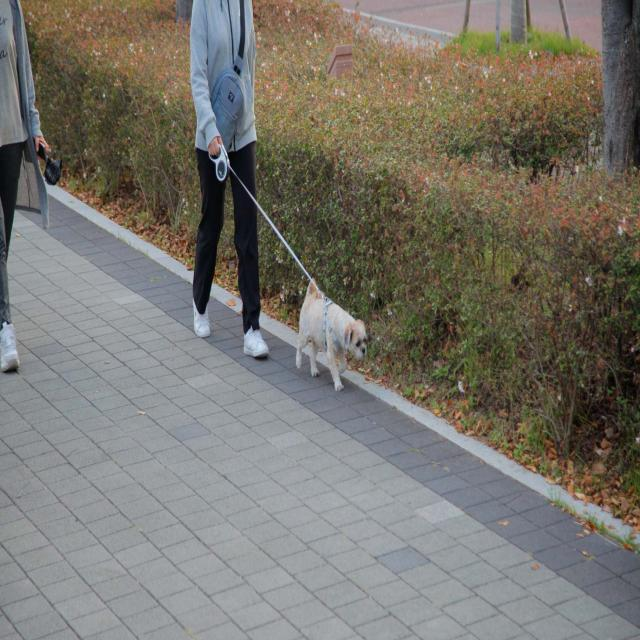Leashed_Dog: (240, 167, 367, 391)
